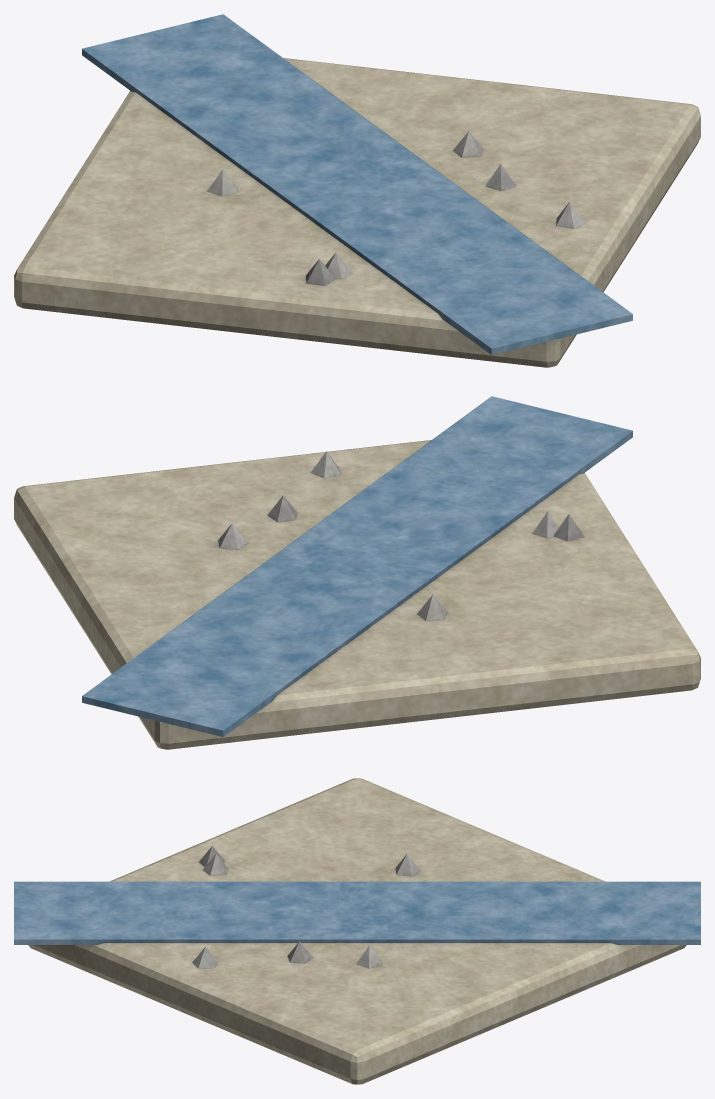
The model's file is river_b.glb.
3 views of the same model, one above another, from view 1: azimuth 30°, elevation 25°; view 2: azimuth 150°, elevation 25°; view 3: azimuth 270°, elevation 25° (orthographic). The views are drawn at different scales.
Parts seen in each view (by area): view 1: dilek; view 2: dilek; view 3: dilek.
Part boxes in pixels (box(x1,y1,x2,y2)): dilek: box(14, 14, 700, 367); dilek: box(14, 396, 700, 749); dilek: box(14, 778, 700, 1084).
Size of the model in its own units: 2.42 by 0.21 by 2.51.
Materials: 1 (1 with a texture image).
